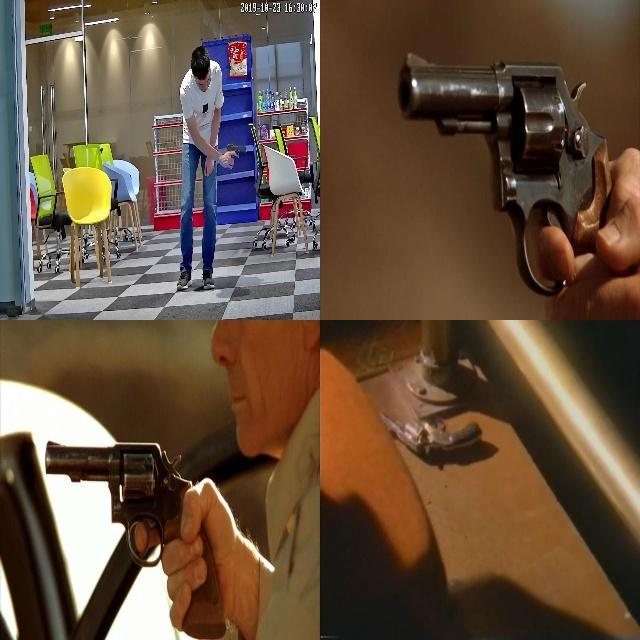gun-knife-thesis - v11 Yolov5 augmented: (395, 40, 630, 319), (43, 435, 225, 638), (372, 403, 483, 464), (217, 139, 246, 170)
